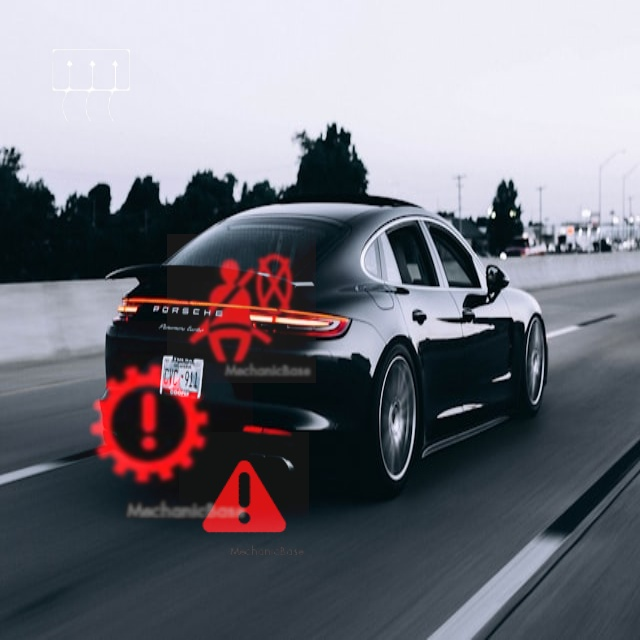symbol: (46, 321, 253, 528), (16, 12, 168, 164), (167, 234, 316, 383), (179, 432, 309, 562)
